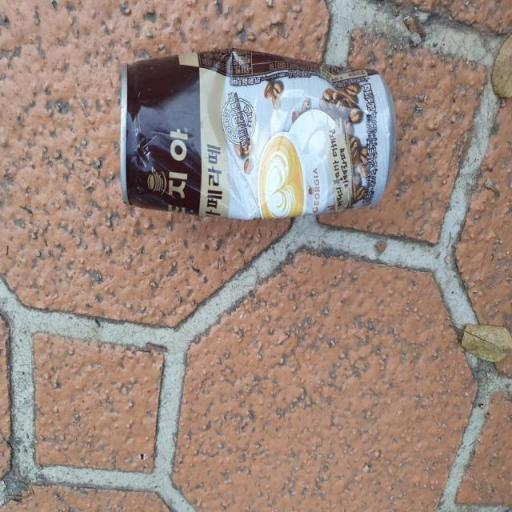metal: (72, 20, 429, 265)
